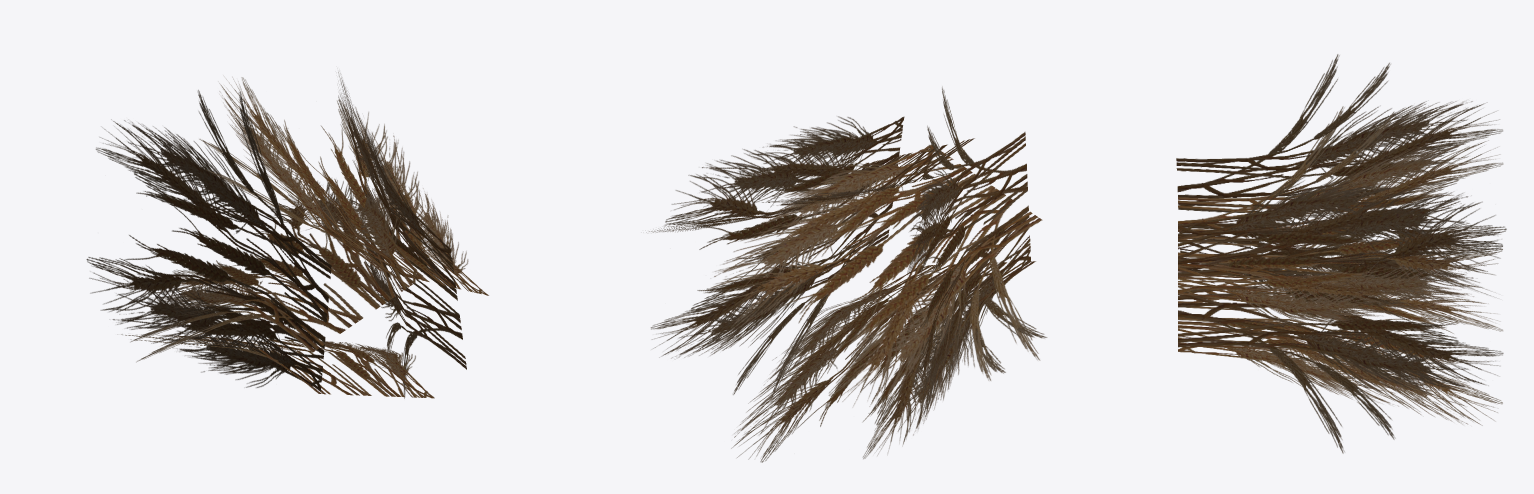
File: wheat_1.glb
3 views of the same model, side by side, from view 1: azimuth 30°, elevation 25°; view 2: azimuth 150°, elevation 25°; view 3: azimuth 270°, elevation 25° (orthographic). The views are drawn at different scales.
Parts seen in each view (by area): view 1: wheat_1; view 2: wheat_1; view 3: wheat_1.
Part boxes in pixels (x1=…): wheat_1: x1=86, y1=72, x2=488, y2=398; wheat_1: x1=646, y1=87, x2=1047, y2=462; wheat_1: x1=1176, y1=54, x2=1506, y2=453.
Bounding box in the file's own units: 1.24 × 1.16 × 1.04.
Materials: 1 (1 with a texture image).
